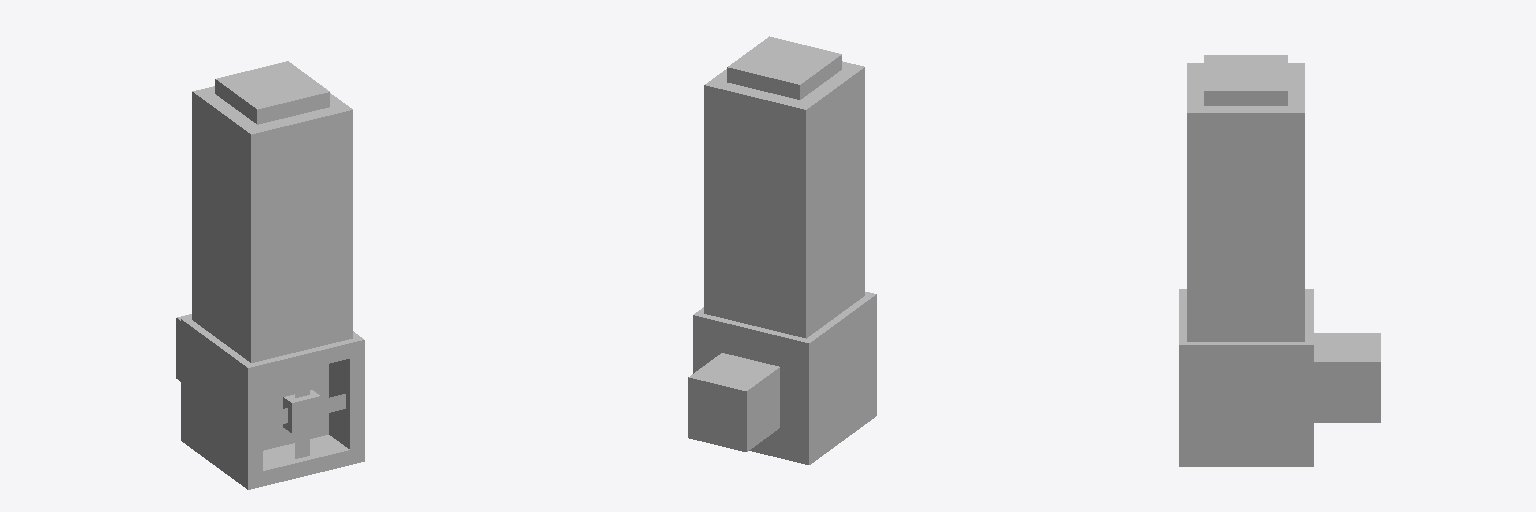
Rendered from blastfurnace_preheater.obj.
3 renders of one model, left to right at view 1: azimuth 30°, elevation 25°; view 2: azimuth 150°, elevation 25°; view 3: azimuth 270°, elevation 25°, orthographic.
Visible parts, largest first — view 1: preheater; view 2: preheater; view 3: preheater.
Part boxes in pixels (bbox=[...]): preheater: bbox=[176, 61, 364, 489]; preheater: bbox=[688, 36, 876, 464]; preheater: bbox=[1179, 55, 1380, 466].
Bounding box in the file's own units: 1 × 3 × 1.5.